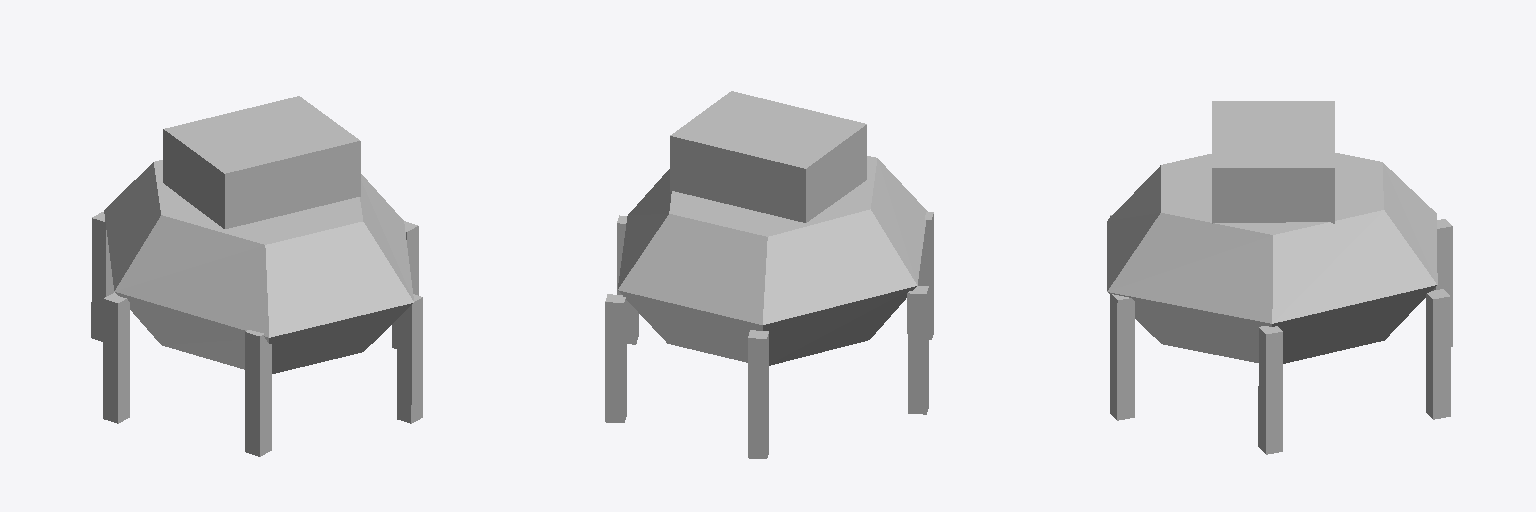
Rendered from moon_lander.obj.
3 renders of one model, left to right at view 1: azimuth 30°, elevation 25°; view 2: azimuth 150°, elevation 25°; view 3: azimuth 270°, elevation 25°, orthographic.
Visible parts, largest first — view 1: segment_top_side, legs, segment_bottom, main_mod_top, main_mod_back, segment_lid, mod_right; view 2: segment_top_side, legs, segment_bottom, main_mod_top, main_mod_back, segment_lid, mod_right; view 3: segment_top_side, segment_bottom, legs, main_mod_top, mod_left, segment_lid.
Boxes of the visible parts, x1,y1,x2,y2 form: segment_top_side: [104, 162, 413, 337]; legs: [91, 212, 422, 456]; segment_bottom: [115, 292, 412, 373]; main_mod_top: [164, 96, 359, 173]; main_mod_back: [225, 141, 360, 228]; segment_lid: [154, 160, 362, 244]; mod_right: [163, 129, 224, 228]; segment_top_side: [618, 158, 927, 324]; legs: [605, 212, 933, 458]; segment_bottom: [618, 286, 916, 365]; main_mod_top: [670, 91, 866, 168]; main_mod_back: [670, 136, 805, 222]; segment_lid: [669, 156, 876, 236]; mod_right: [806, 125, 866, 222]; segment_top_side: [1107, 163, 1437, 323]; segment_bottom: [1108, 285, 1436, 363]; legs: [1110, 215, 1452, 454]; main_mod_top: [1212, 101, 1334, 167]; mod_left: [1212, 168, 1334, 223]; segment_lid: [1161, 153, 1383, 234].
Bounding box in the file's own units: 34.15 × 25.77 × 32.87.